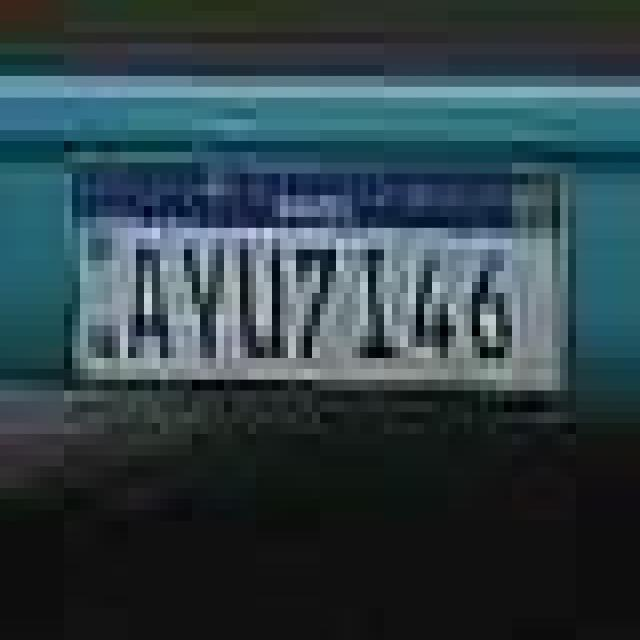4: (408, 246, 460, 361)
6: (466, 242, 515, 364)
7: (291, 242, 338, 358)
A: (132, 239, 172, 367)
I: (353, 241, 401, 362)
U: (236, 238, 287, 361)
Y: (184, 234, 228, 372)
